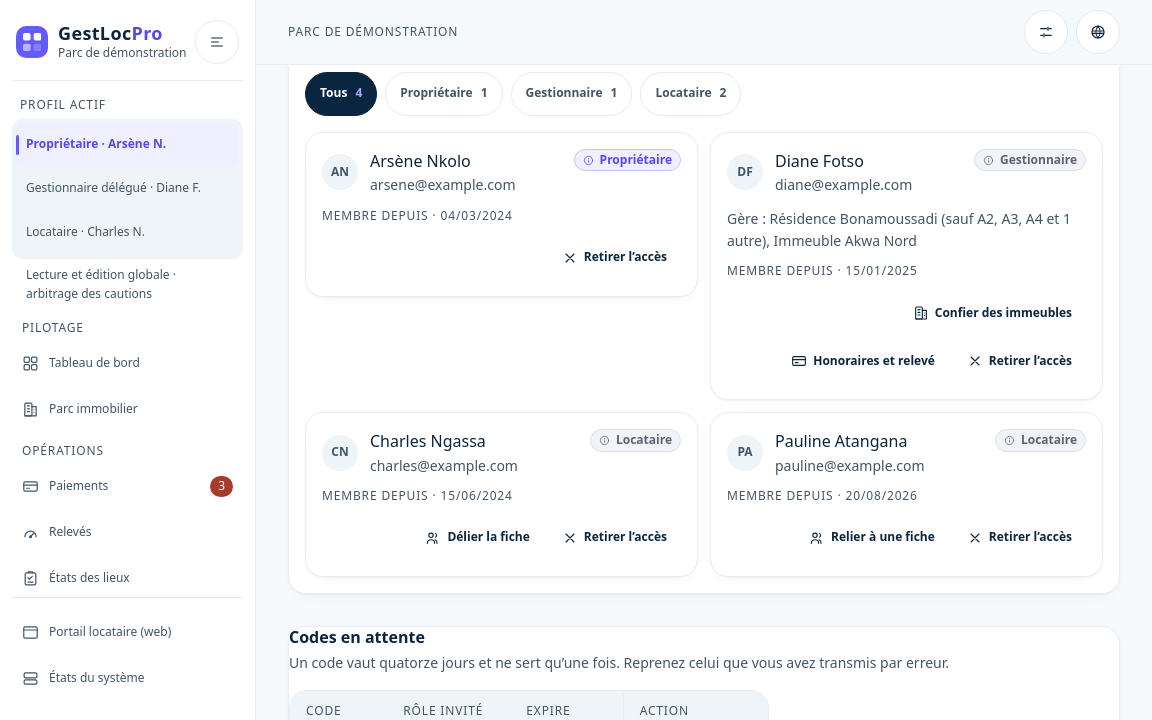
Test: les honoraires d’un mandataire › NOMMENT LEUR SUJET DANS LE TITRE, et pas dans un texte caché
(page scrolled)
Step 1. Click the button with aria-label "Honoraires et relevé — Diane Fotso" → (863, 361), box [777, 339, 949, 383]
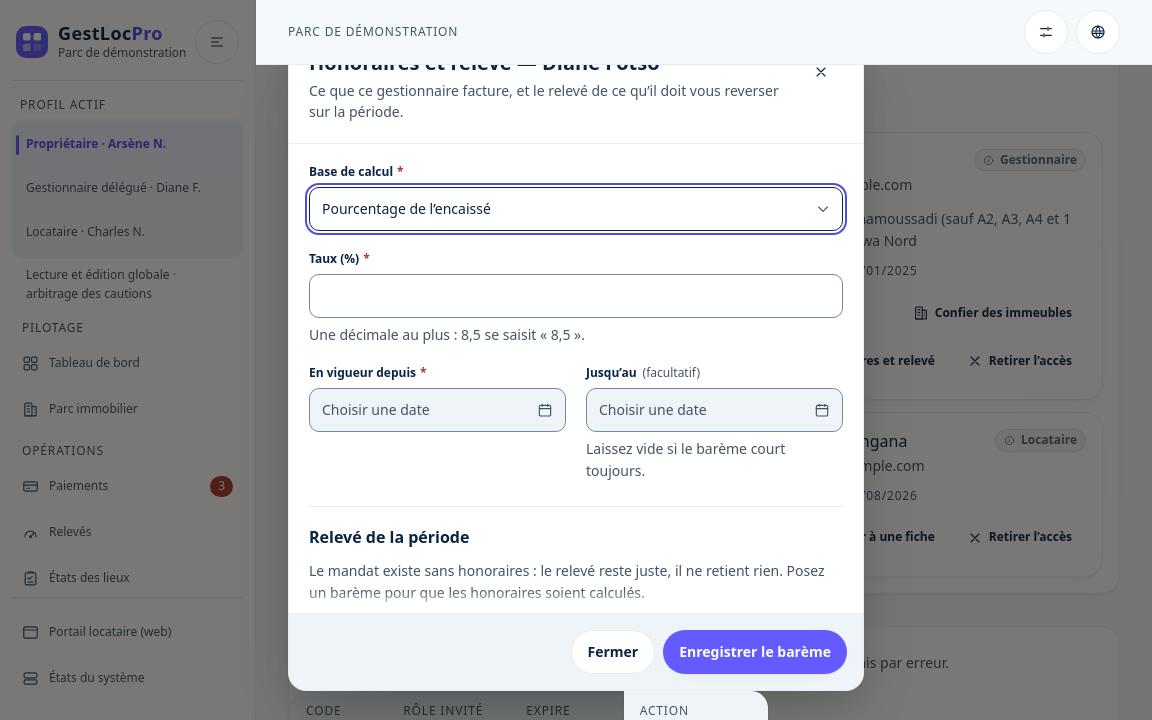
Now the heading "Honoraires et relevé — Diane Fotso" is shown, box [309, 49, 660, 76]
